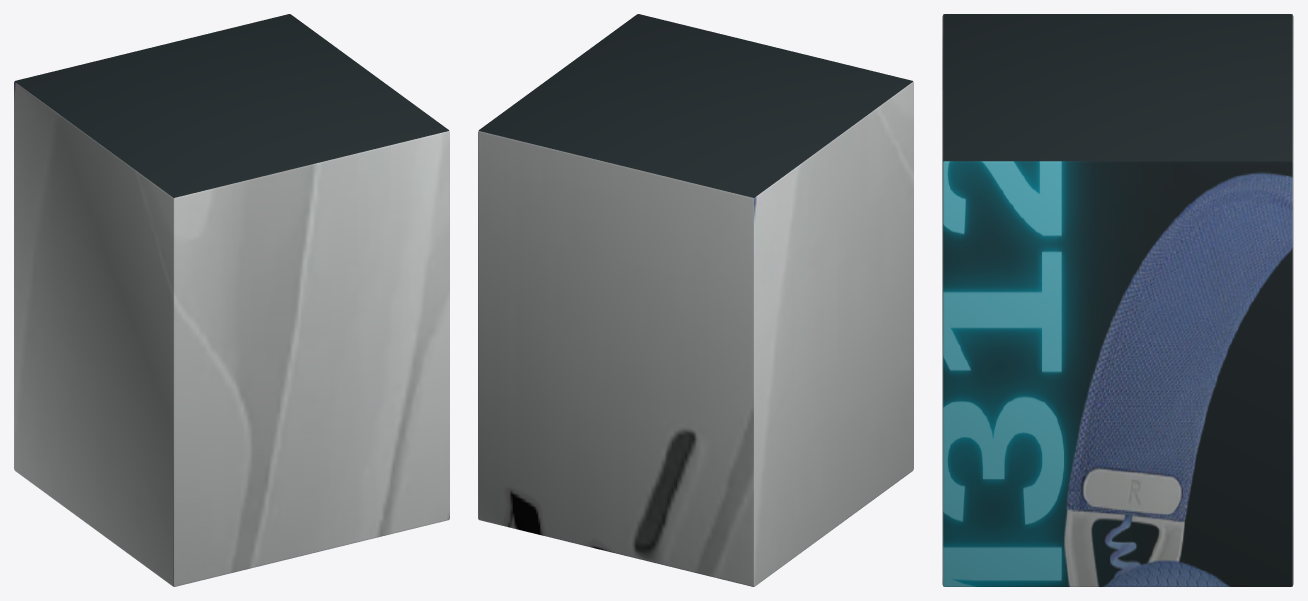
File: SmallProduct02.fbx
3 views of the same model, side by side, from view 1: azimuth 30°, elevation 25°; view 2: azimuth 150°, elevation 25°; view 3: azimuth 270°, elevation 25° (orthographic). The views are drawn at different scales.
Parts seen in each view (by area): view 1: Small_Product_001; view 2: Small_Product_001; view 3: Small_Product_001.
Boxes of the visible parts, <box> form: Small_Product_001: <box>14,14,449,586</box>; Small_Product_001: <box>478,14,913,586</box>; Small_Product_001: <box>942,14,1293,586</box>.
Bounding box in the file's own units: 0.4967 × 0.6687 × 0.4981.
